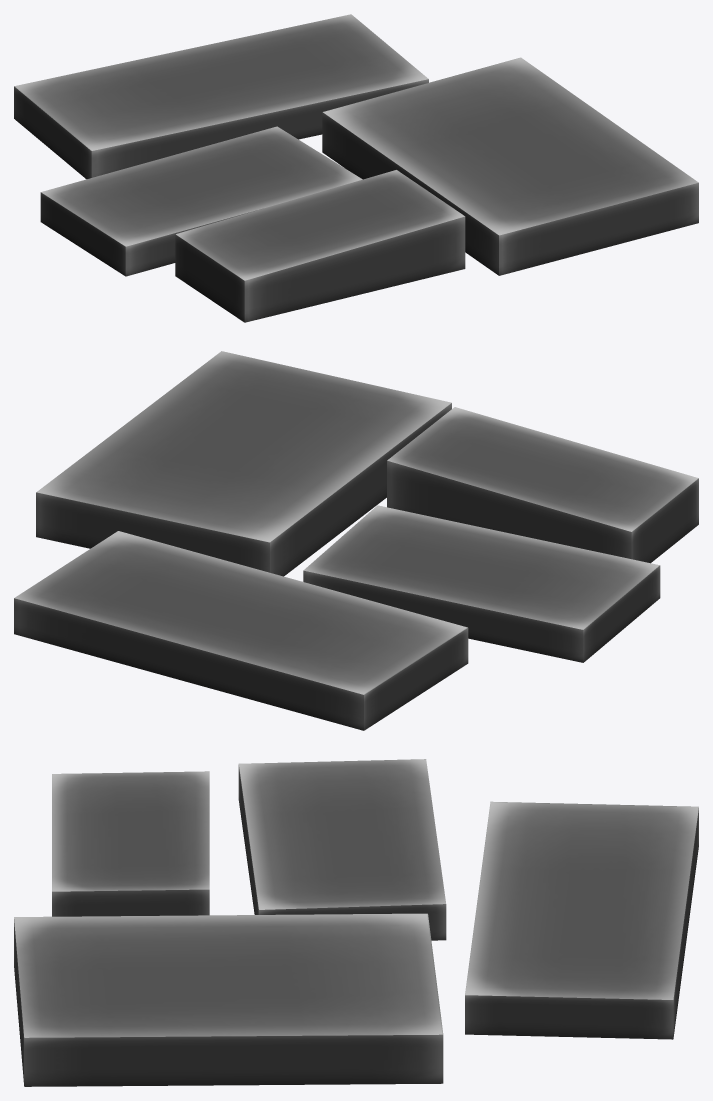
Rendered from StonePath_02.fbx.
3 views of the same model, one above another, from view 1: azimuth 30°, elevation 25°; view 2: azimuth 150°, elevation 25°; view 3: azimuth 270°, elevation 25° (orthographic). The views are drawn at different scales.
Parts seen in each view (by area): view 1: StonePath_02; view 2: StonePath_02; view 3: StonePath_02.
Boxes of the visible parts, bbox=[...] form: StonePath_02: bbox=[14, 14, 698, 322]; StonePath_02: bbox=[14, 351, 698, 730]; StonePath_02: bbox=[14, 759, 698, 1086].
Size of the model in its own units: 108 by 11.04 by 108.
1 material, 1 textured.
